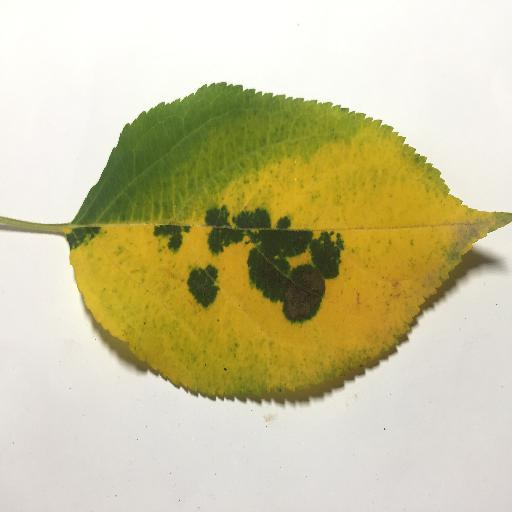Brown_Spot: (281, 272, 325, 320)
